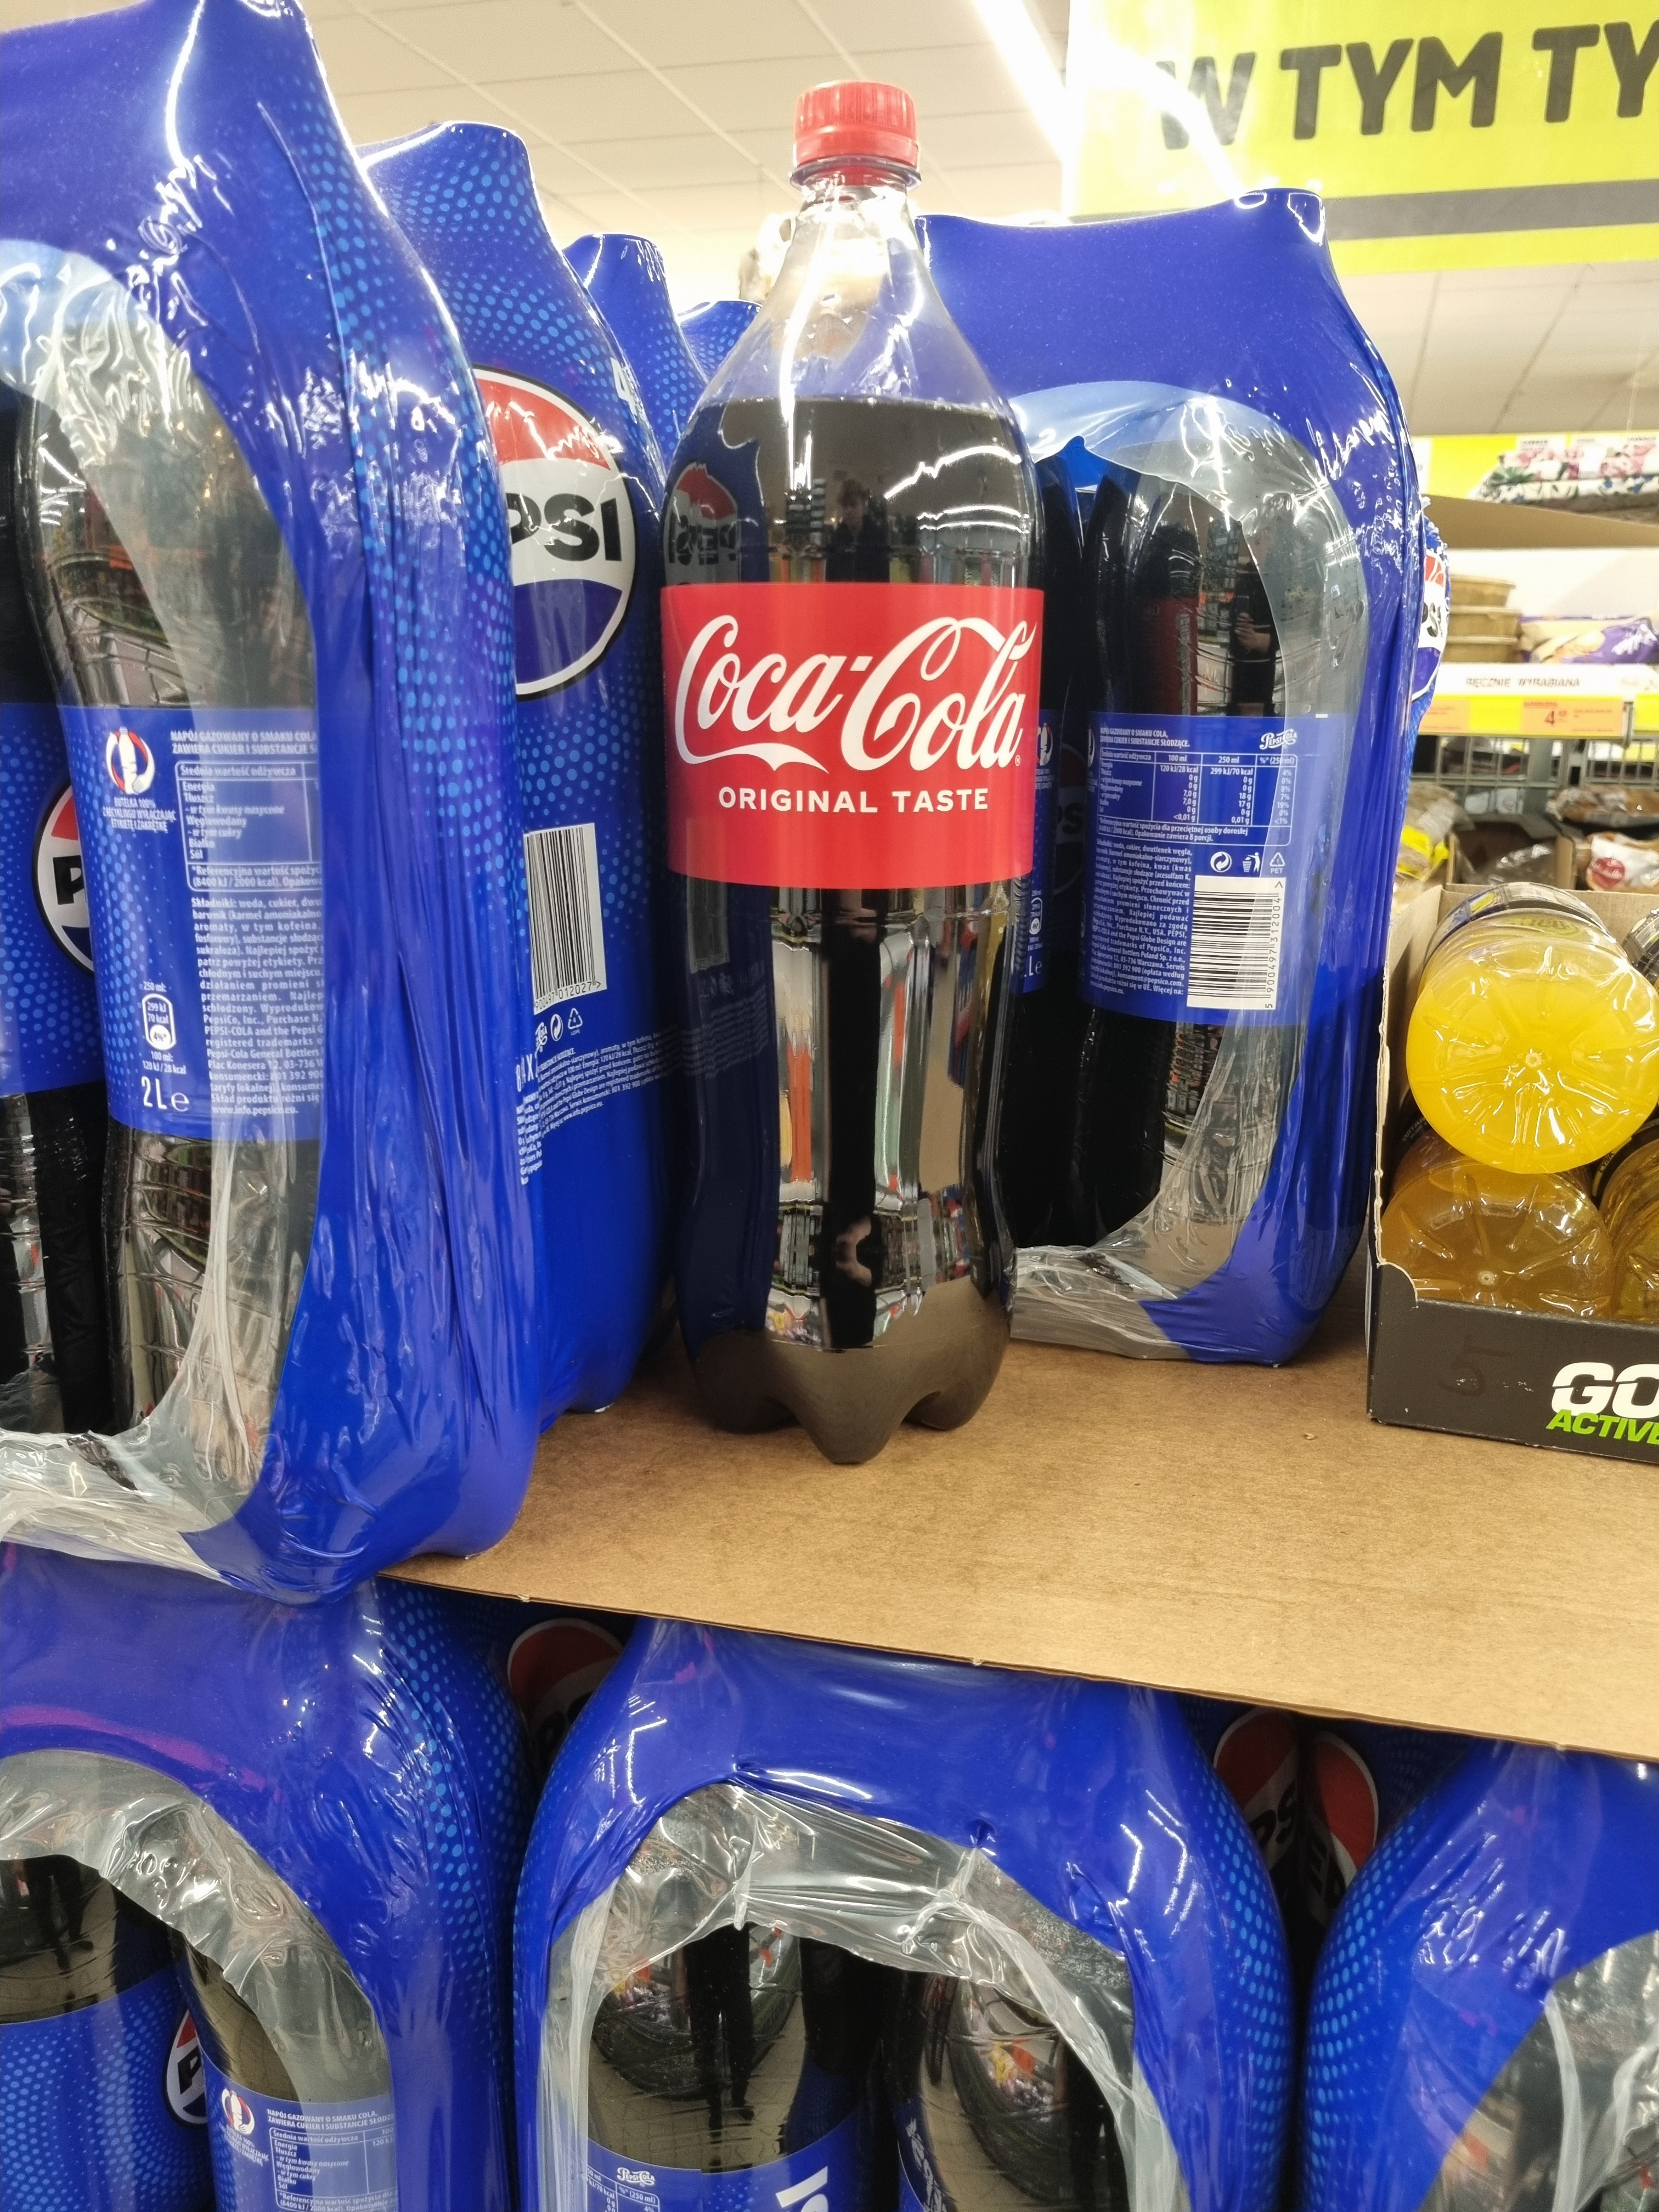Coca Cola: (652, 77, 1047, 1454)
